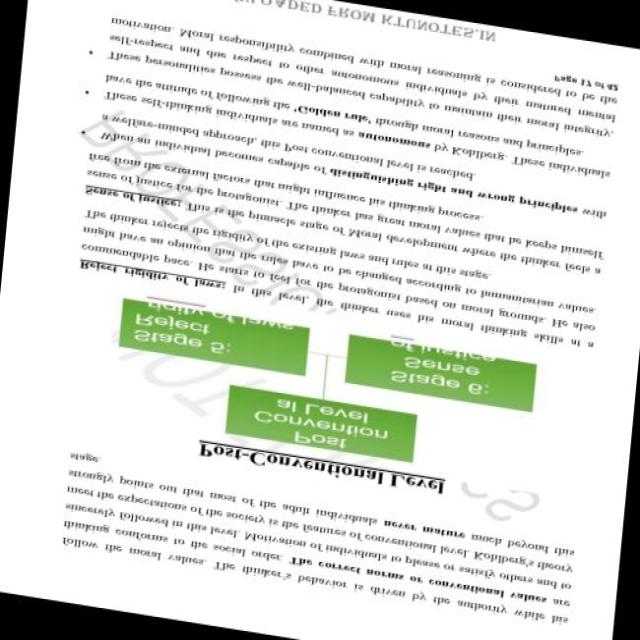Figure Detection - v3 Dataset Version2: (86, 286, 548, 488)
